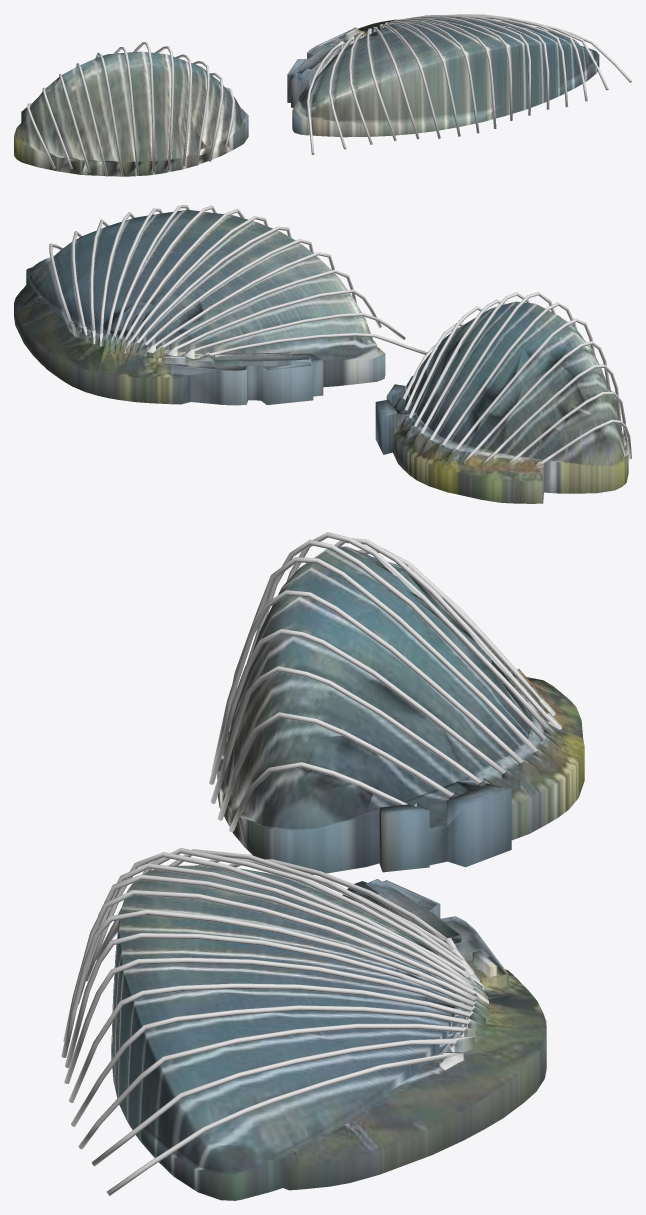
3 views of the same model, one above another, from view 1: azimuth 30°, elevation 25°; view 2: azimuth 150°, elevation 25°; view 3: azimuth 270°, elevation 25° (orthographic). The views are drawn at different scales.
Parts seen in each view (by area): view 1: Flower Dome, Cloud Forest; view 2: Flower Dome, Cloud Forest; view 3: Flower Dome, Cloud Forest.
Boxes of the visible parts, box(x1,y1,x2,y2) form: Flower Dome: box(287, 14, 631, 154); Cloud Forest: box(14, 42, 248, 176); Flower Dome: box(14, 205, 427, 405); Cloud Forest: box(375, 292, 631, 503); Flower Dome: box(61, 848, 546, 1200); Cloud Forest: box(209, 532, 584, 874).
Size of the model in its own units: 316 by 62.87 by 134.
3 materials, 2 textured.
